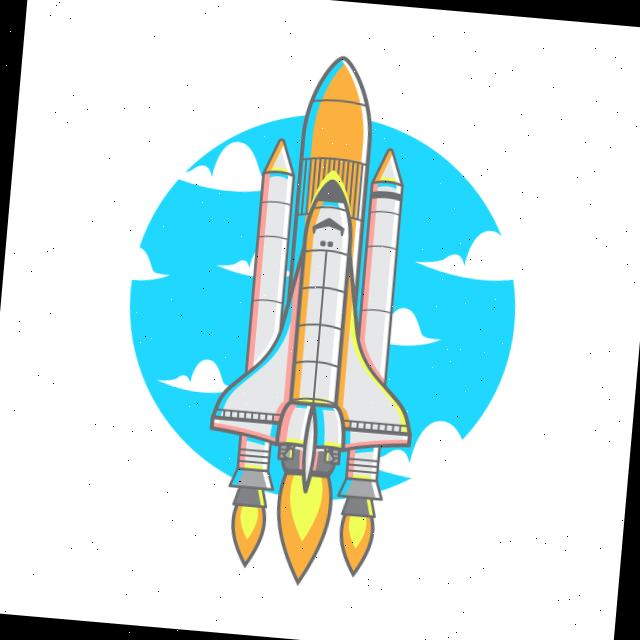rocket: (202, 152, 433, 477)
